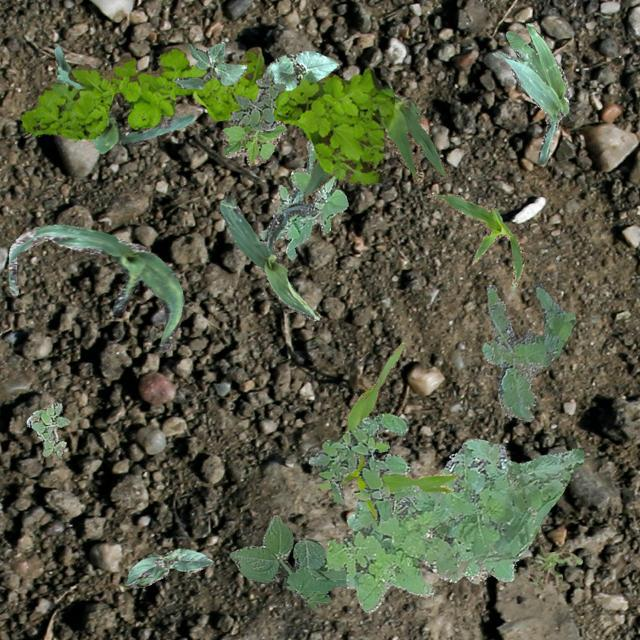crop: (315, 341, 457, 518), (8, 224, 184, 352), (302, 92, 448, 202), (54, 44, 194, 152), (218, 194, 318, 320), (492, 22, 568, 162), (425, 192, 523, 290), (122, 548, 212, 586), (174, 41, 246, 88), (262, 49, 338, 90)
weed: (21, 46, 393, 182), (323, 438, 582, 612), (480, 280, 574, 420), (308, 412, 420, 522), (228, 514, 346, 608), (258, 140, 346, 258), (230, 72, 284, 132), (220, 118, 286, 166), (26, 400, 70, 456), (524, 544, 582, 586)
